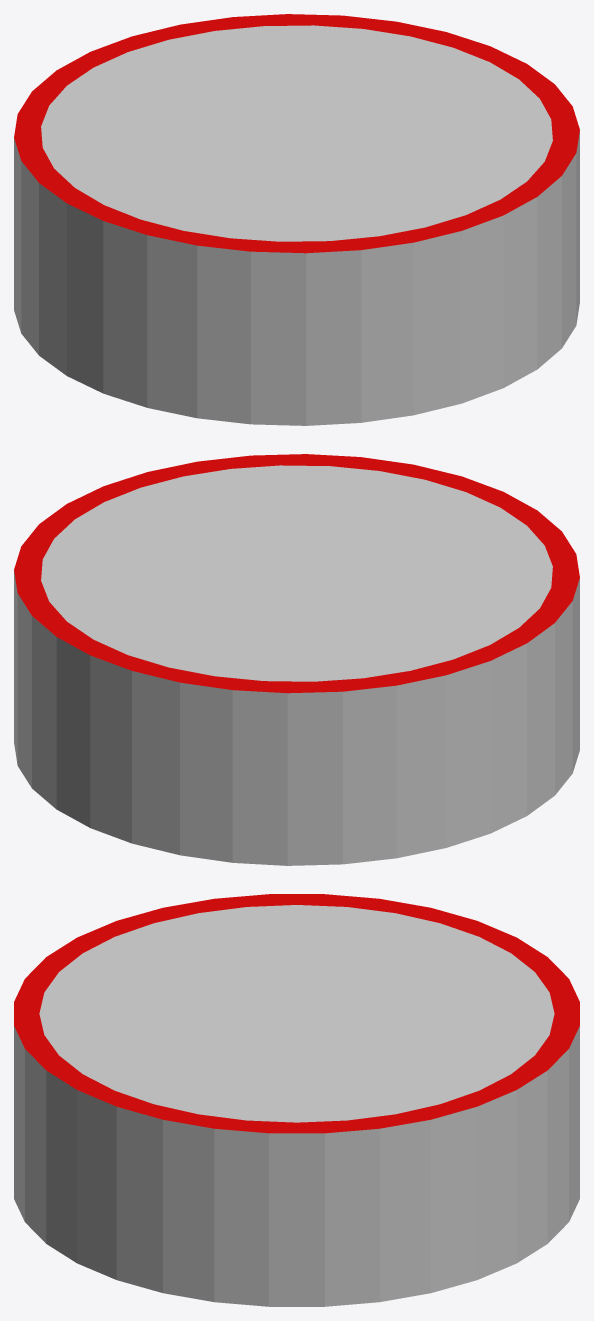
Rendered from platform_flat.fbx.
The picture shows the model from 3 angles, top to bottom: view 1: azimuth 30°, elevation 25°; view 2: azimuth 150°, elevation 25°; view 3: azimuth 270°, elevation 25°; orthographic projection.
Visible parts, largest first — view 1: Cylinder.003; view 2: Cylinder.003; view 3: Cylinder.003.
Part boxes in pixels (x1,y1,x2,y2): Cylinder.003: (14, 14, 579, 425); Cylinder.003: (14, 454, 579, 865); Cylinder.003: (14, 894, 579, 1306).
Size of the model in its own units: 50.1 by 16.94 by 50.1.
